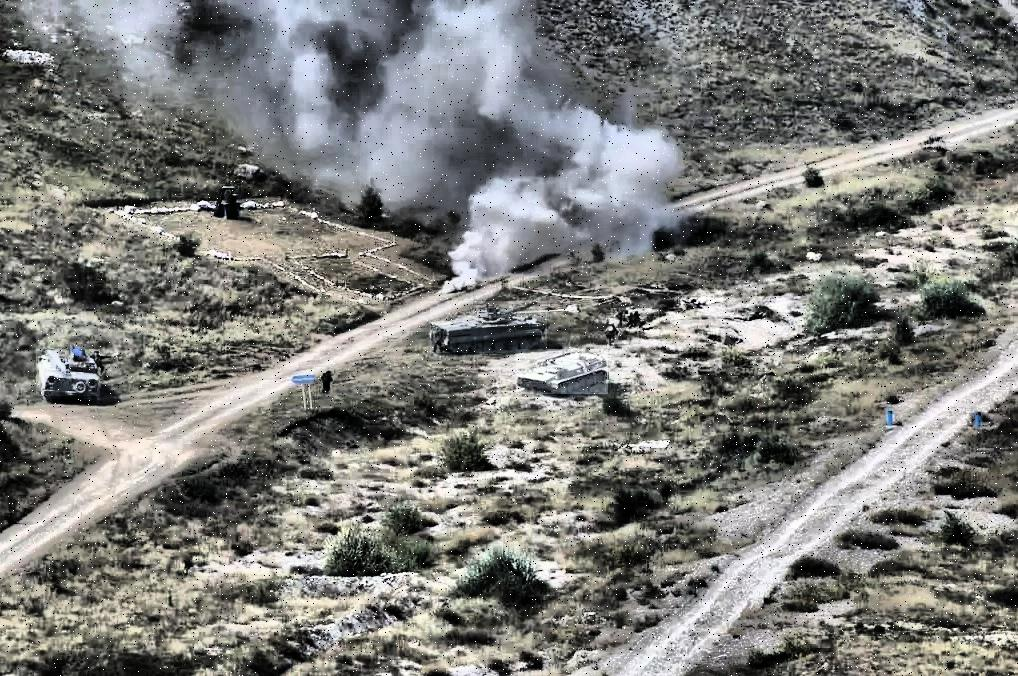military-vehicle: (431, 301, 548, 353), (517, 349, 609, 394), (37, 350, 101, 397)
